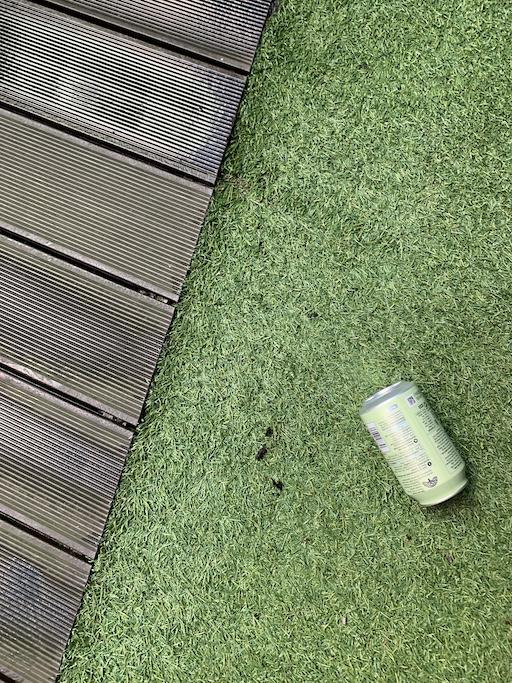Aluminum can: (345, 369, 486, 516)
